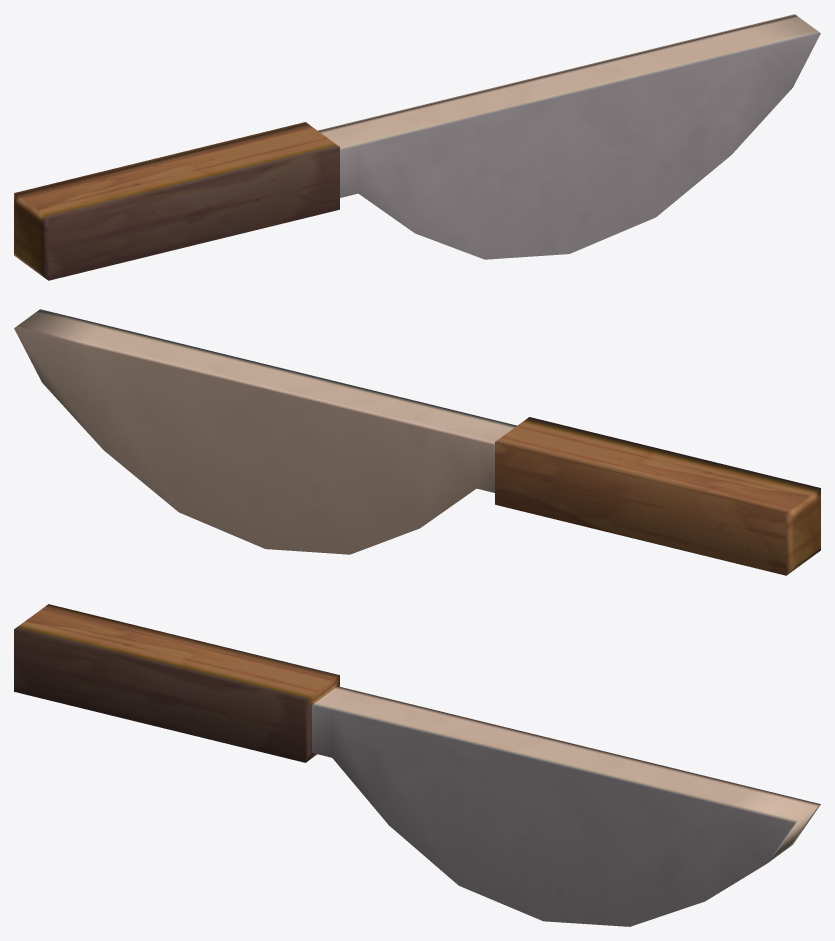
File: Knife.fbx
3 renders of one model, top to bottom at view 1: azimuth 30°, elevation 25°; view 2: azimuth 150°, elevation 25°; view 3: azimuth 330°, elevation 25°, orthographic.
Parts seen in each view (by area): view 1: Knife; view 2: Knife; view 3: Knife.
Part boxes in pixels (box(x1,y1,x2,y2)): Knife: box(14, 14, 820, 280); Knife: box(14, 309, 820, 575); Knife: box(14, 604, 820, 926).
Bounding box in the file's own units: 146 × 29.88 × 11.19.
